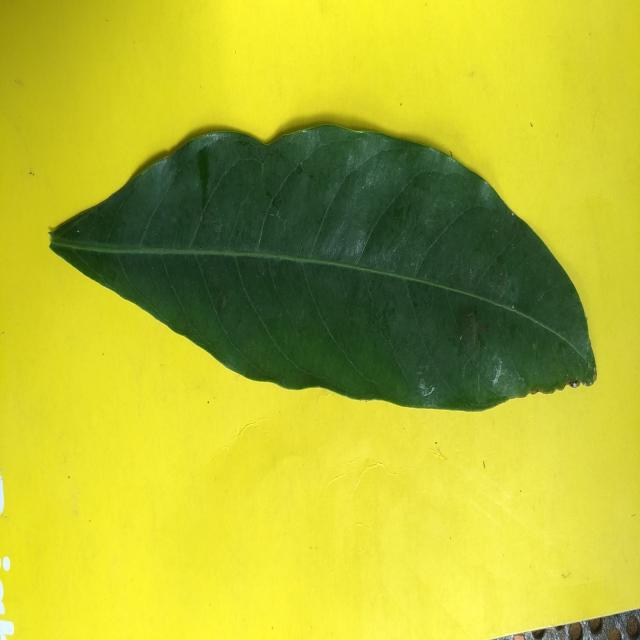seethaashoka: (50, 124, 596, 411)
